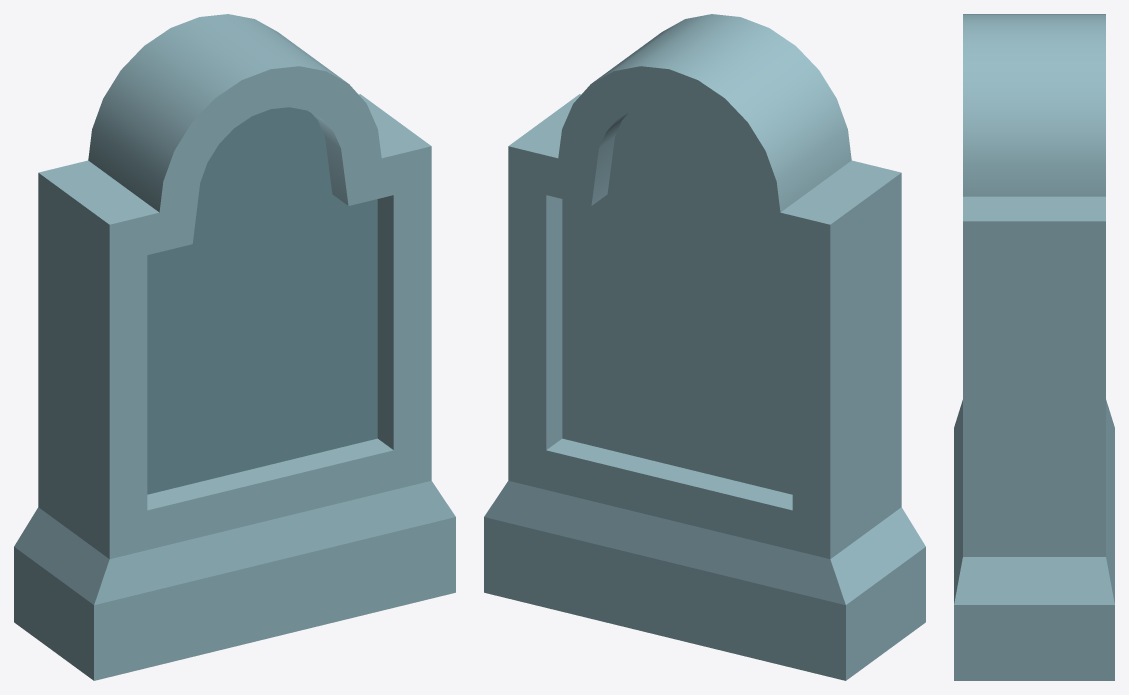
File: gravestoneBevel.fbx
3 renders of one model, left to right at view 1: azimuth 30°, elevation 25°; view 2: azimuth 150°, elevation 25°; view 3: azimuth 270°, elevation 25°, orthographic.
Parts seen in each view (by area): view 1: gravestoneBevel; view 2: gravestoneBevel; view 3: gravestoneBevel.
Boxes of the visible parts, x1=… form: gravestoneBevel: x1=14, y1=14, x2=455, y2=680; gravestoneBevel: x1=484, y1=14, x2=925, y2=680; gravestoneBevel: x1=954, y1=14, x2=1114, y2=680.
Bounding box in the file's own units: 3.9 × 5.81 × 1.5.
